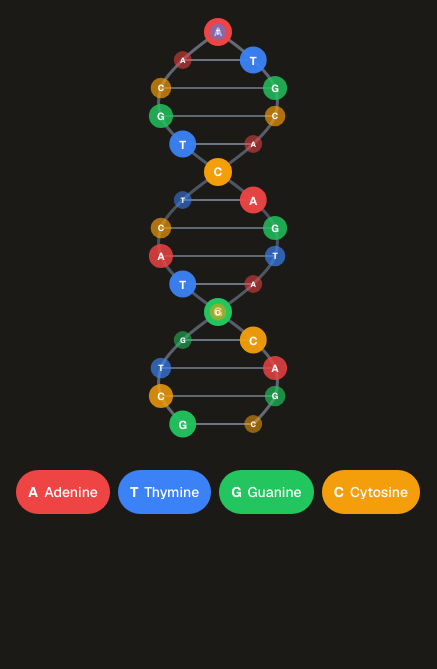
Scenario: DNAStrand › shows complement info when a base pair is clicked
The width and height of the screenshot is (437, 669).
Click the button "A Adenine": [63, 492] box [16,470,110,514]
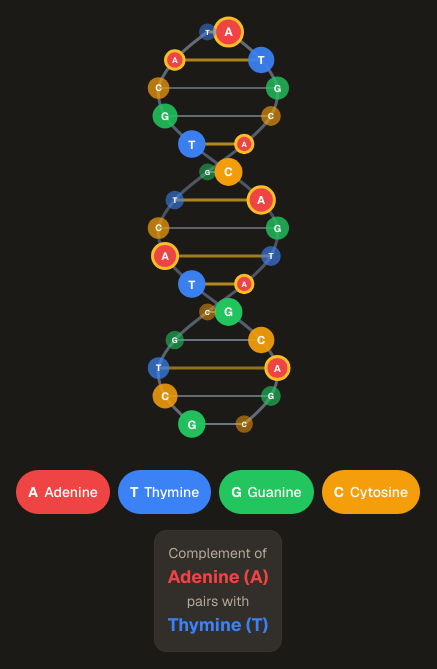
Expected: the text "Complement of" is shown, [167,543,269,563]
Expected: the element with test id "complement-info" shows "Thymine", [168,613,242,636]
